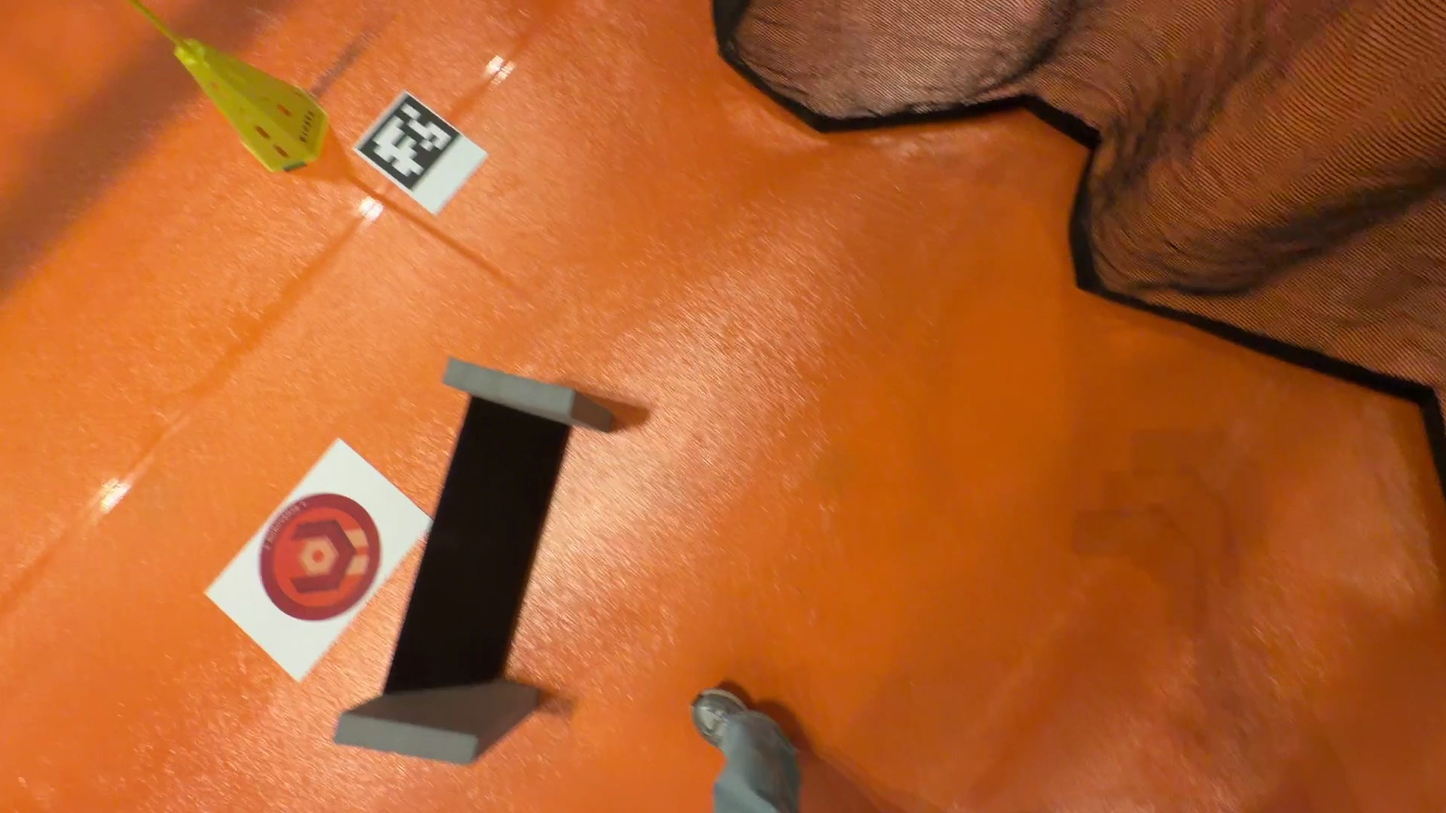landing_pad: (258, 491, 385, 619)
